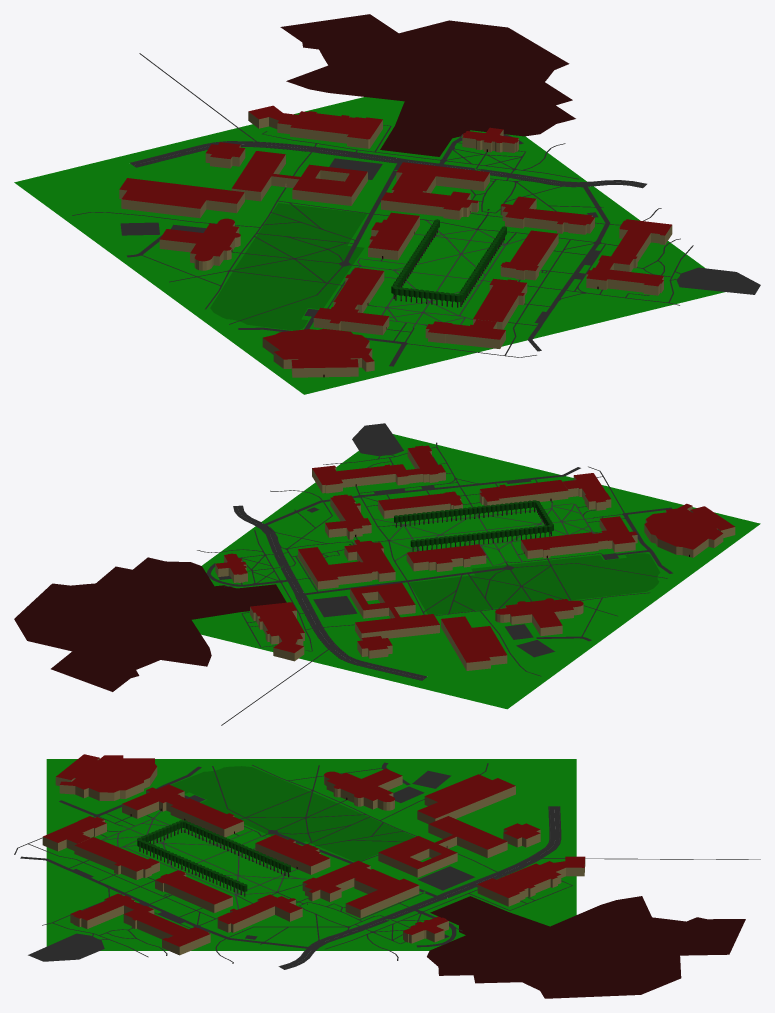
The model's file is map_quad.obj.
3 views of the same model, one above another, from view 1: azimuth 30°, elevation 25°; view 2: azimuth 150°, elevation 25°; view 3: azimuth 270°, elevation 25° (orthographic). The views are drawn at different scales.
Visible parts, largest first — view 1: SurfaceArea@0, SurfaceArea@391984584, SurfaceArea@253553517, Building@26447597, Building@26447635, Building@135677815, Building@222822504, Building@26447622, Building@30861157, Building@2955445, TreeRow@406637579, Building@26447631 (+13 smaller); view 2: SurfaceArea@0, SurfaceArea@391984584, SurfaceArea@253553517, Building@26447597, Building@26447635, TreeRow@406637579, Building@26447622, Building@135677815, Building@222822504, Building@30896763, Building@30861157, Building@2955445 (+14 smaller); view 3: SurfaceArea@0, SurfaceArea@391984584, SurfaceArea@253553517, Building@26447597, Building@26447635, TreeRow@406637579, Building@26447622, Building@135677815, Building@222822504, Building@30861157, Building@30896763, Building@2955445 (+14 smaller).
Boxes of the visible parts, x1,y1,x2,y2 form: SurfaceArea@0: (14,97,724,394); SurfaceArea@391984584: (280,14,575,156); SurfaceArea@253553517: (210,203,366,330); Building@26447597: (262,328,374,377); Building@26447635: (381,162,489,219); Building@135677815: (119,178,244,218); Building@222822504: (248,105,382,148); Building@26447622: (313,267,389,335); Building@30861157: (159,218,240,270); Building@2955445: (292,164,367,205); TreeRow@406637579: (391,219,506,307); Building@26447631: (500,196,594,234); SurfaceArea@0: (192,434,760,709); SurfaceArea@391984584: (14,557,286,691); SurfaceArea@253553517: (409,553,660,614); Building@26447597: (644,503,735,557); Building@26447635: (298,540,395,589); TreeRow@406637579: (394,500,553,551); Building@26447622: (521,516,637,558); Building@135677815: (441,616,507,670); Building@222822504: (250,602,304,661); Building@30896763: (312,464,423,493); Building@30861157: (495,598,583,636); Building@2955445: (350,583,415,618); SurfaceArea@0: (46,759,576,950); SurfaceArea@391984584: (427,896,745,998); SurfaceArea@253553517: (171,766,414,861); Building@26447597: (55,754,157,800); Building@26447635: (302,860,419,918); TreeRow@406637579: (137,820,290,896); Building@26447622: (122,784,243,837); Building@135677815: (417,774,515,823); Building@222822504: (477,856,585,906); Building@30861157: (324,768,402,810); Building@30896763: (123,901,210,955); Building@2955445: (378,836,457,877).
Bounding box in the file's own units: 450 × 10 × 592.
